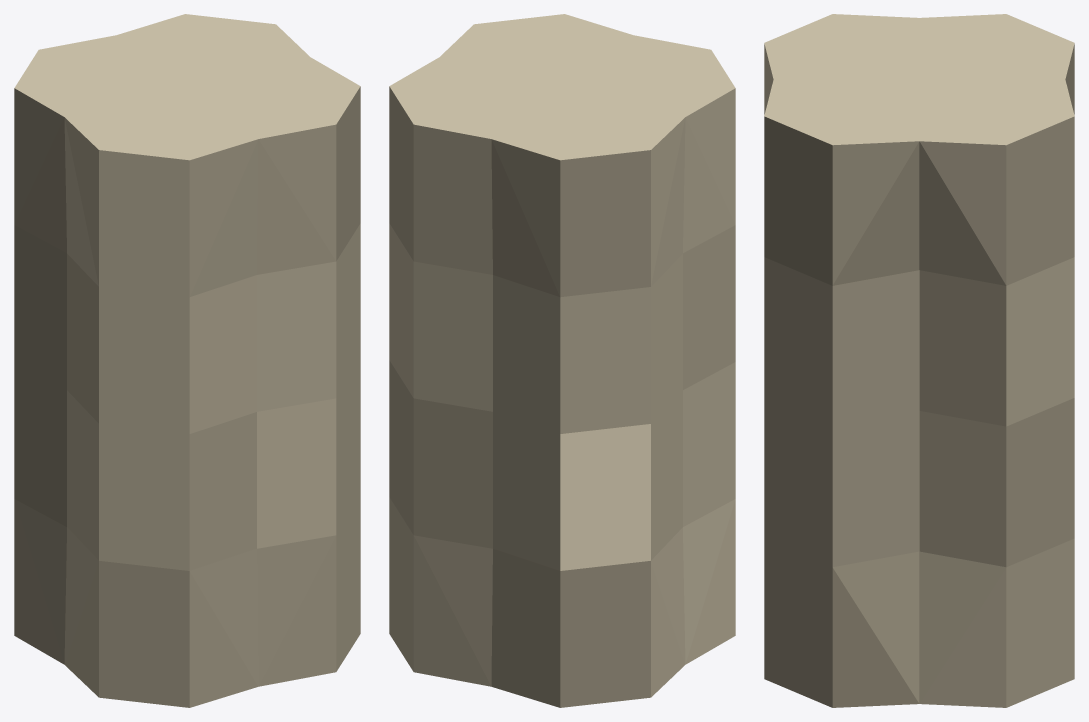
The model's file is Section_3.glb.
3 renders of one model, left to right at view 1: azimuth 30°, elevation 25°; view 2: azimuth 150°, elevation 25°; view 3: azimuth 270°, elevation 25°, orthographic. The views are drawn at different scales.
Visible parts, largest first — view 1: Section; view 2: Section; view 3: Section.
Part boxes in pixels (x1,y1,x2,y2): Section: (14, 14, 360, 707); Section: (389, 14, 735, 707); Section: (764, 14, 1074, 707).
Size of the model in its own units: 2.6 by 5.2 by 2.6.
